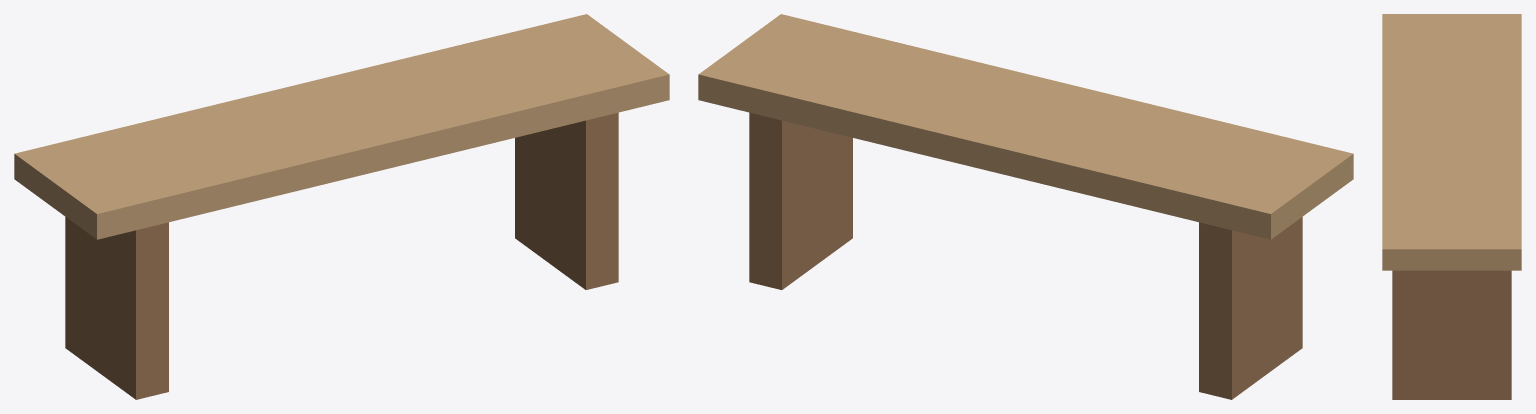
The model's file is SM_Bench.glb.
3 renders of one model, left to right at view 1: azimuth 30°, elevation 25°; view 2: azimuth 150°, elevation 25°; view 3: azimuth 270°, elevation 25°, orthographic. The views are drawn at different scales.
Parts seen in each view (by area): view 1: SM_Bench; view 2: SM_Bench; view 3: SM_Bench.
Boxes of the visible parts, x1,y1,x2,y2 form: SM_Bench: (14,14,669,399); SM_Bench: (698,14,1353,399); SM_Bench: (1382,14,1521,399).
Size of the model in its own units: 1.4 by 0.47 by 0.35.
